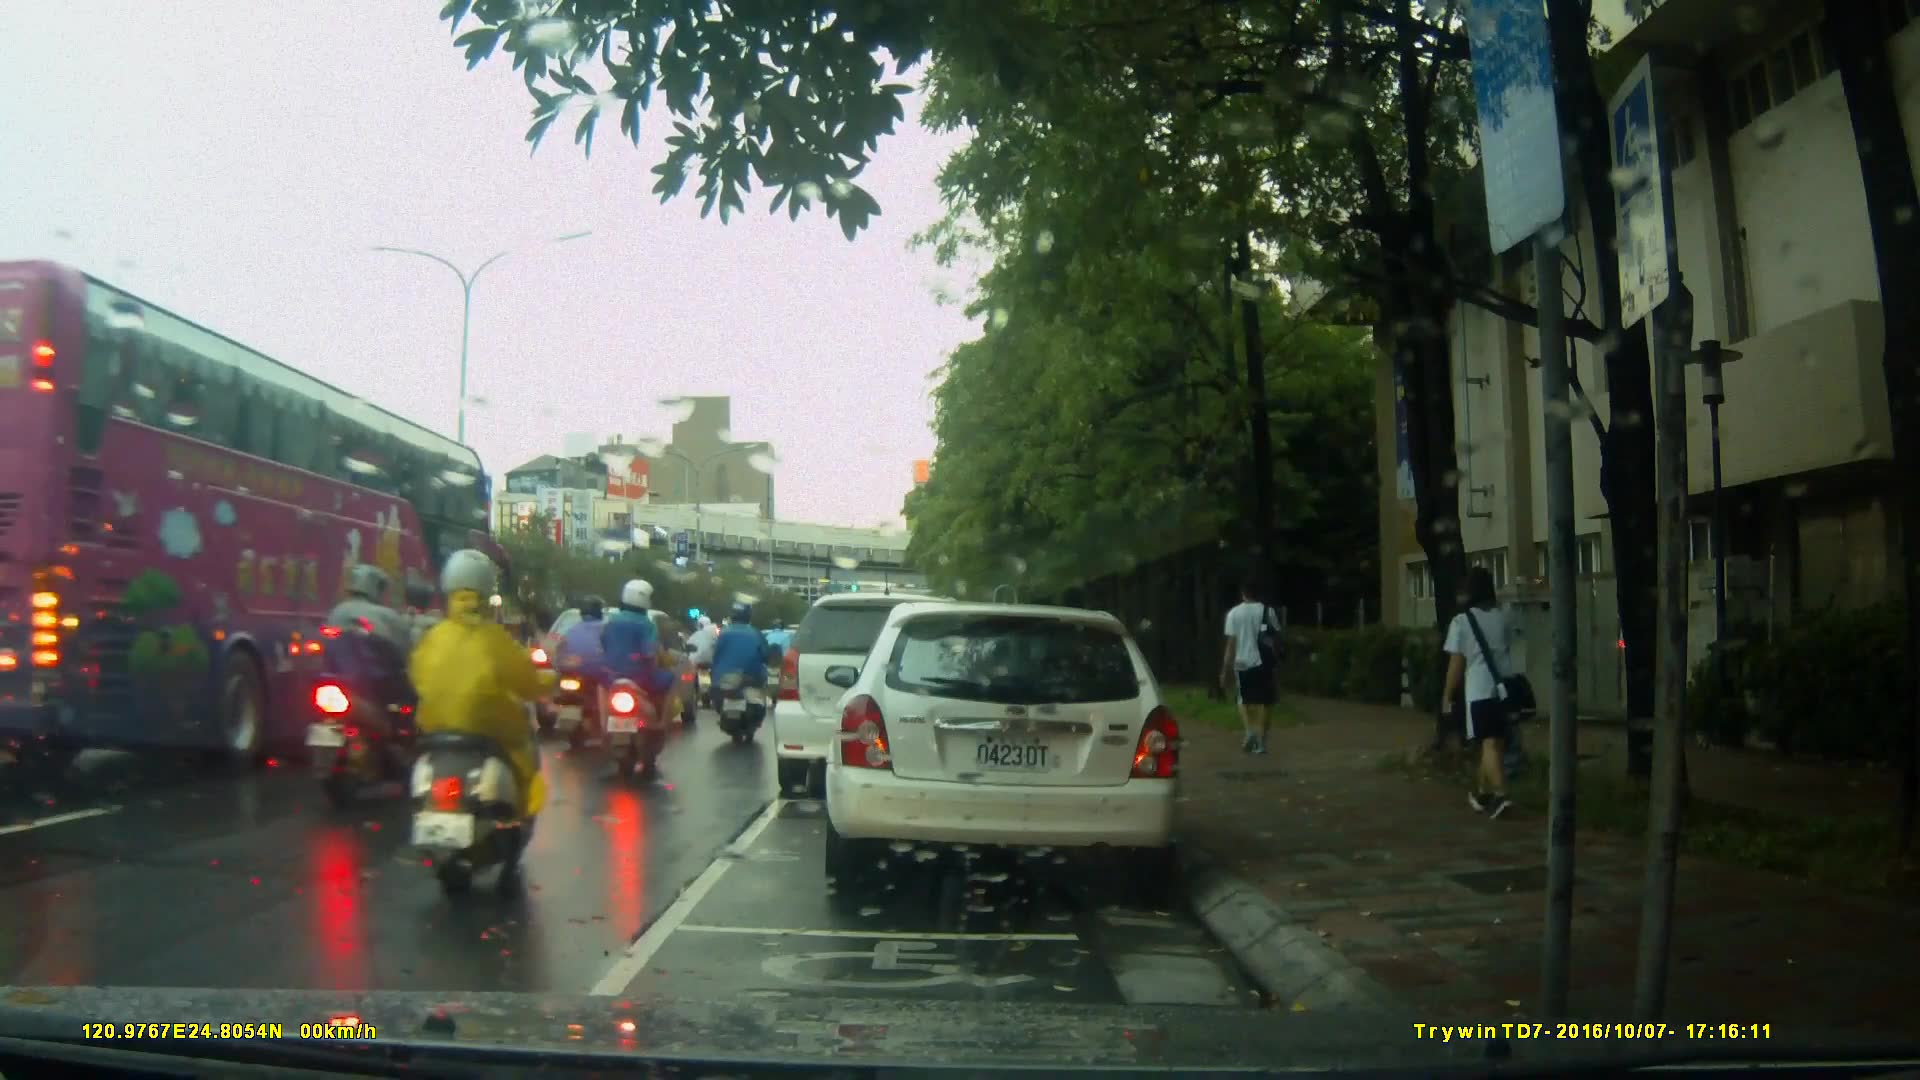pedestrian: (1433, 565, 1527, 829), (1205, 576, 1280, 764)
rider: (411, 540, 550, 906), (311, 559, 433, 814), (587, 575, 674, 797), (559, 595, 628, 758), (707, 600, 771, 752), (718, 614, 766, 711), (763, 614, 797, 691)
vehicle: (3, 281, 525, 773), (835, 594, 1194, 898), (776, 590, 1026, 784), (523, 605, 702, 744)
